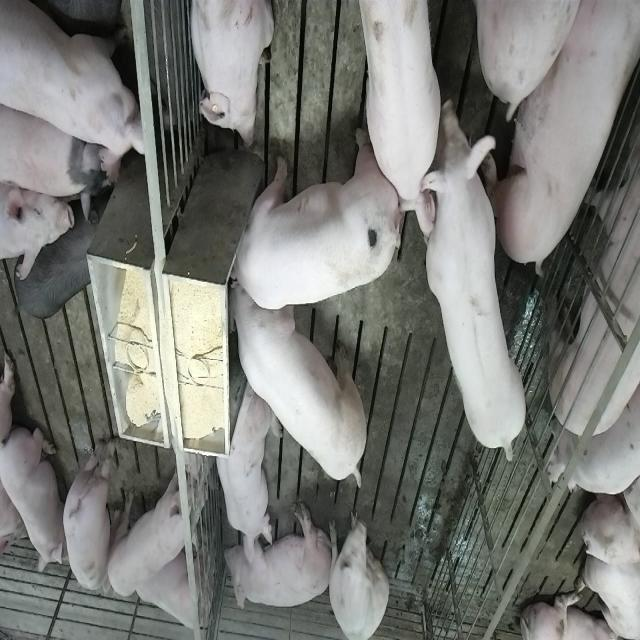Feeding: (220, 129, 397, 311), (230, 281, 372, 496)
Lateral_lying: (486, 1, 636, 274), (224, 500, 334, 612)
Sitting: (326, 501, 388, 638)
Standing: (546, 0, 640, 445), (418, 116, 528, 458), (1, 0, 144, 182), (360, 0, 453, 222), (3, 91, 115, 223), (104, 467, 202, 592), (12, 206, 101, 321)
Sternal_lying: (186, 0, 274, 150), (209, 382, 273, 563), (1, 424, 64, 578), (132, 543, 212, 635)
